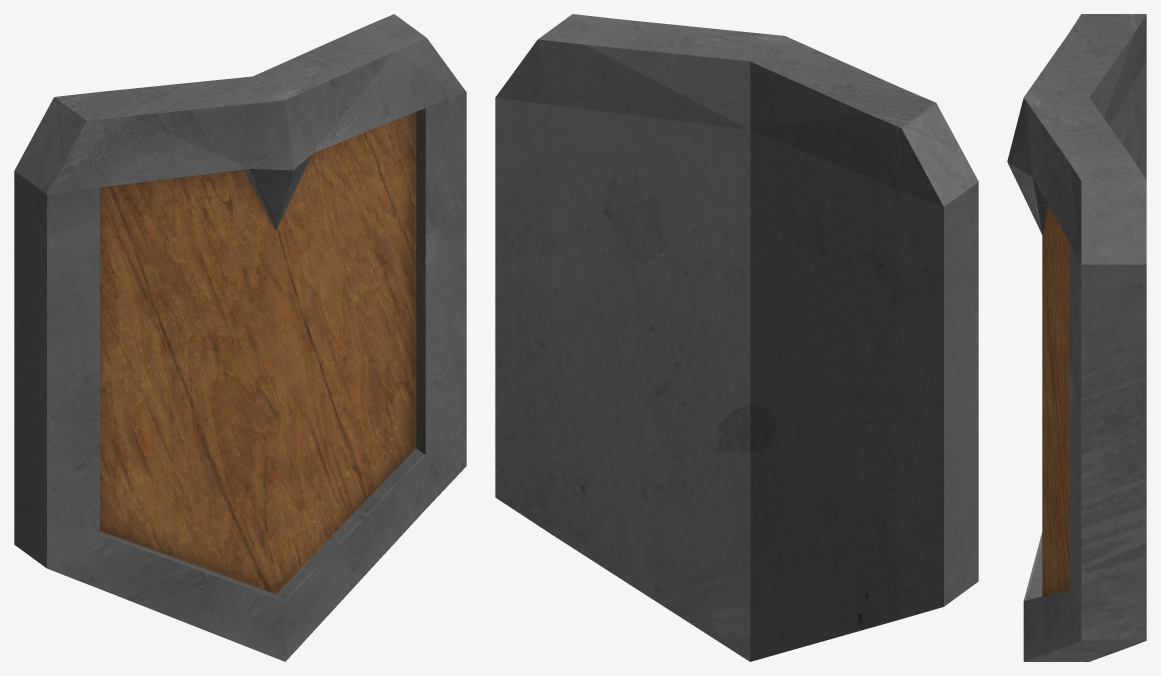
File: kite Shield.fbx
3 renders of one model, left to right at view 1: azimuth 30°, elevation 25°; view 2: azimuth 150°, elevation 25°; view 3: azimuth 270°, elevation 25°, orthographic. The views are drawn at different scales.
Visible parts, largest first — view 1: kite_Shield; view 2: kite_Shield; view 3: kite_Shield.
Part boxes in pixels (x1,y1,x2,y2): kite_Shield: (14,14,466,661); kite_Shield: (495,14,978,661); kite_Shield: (1007,14,1146,661).
Size of the model in its own units: 87.67 by 112 by 25.12.
